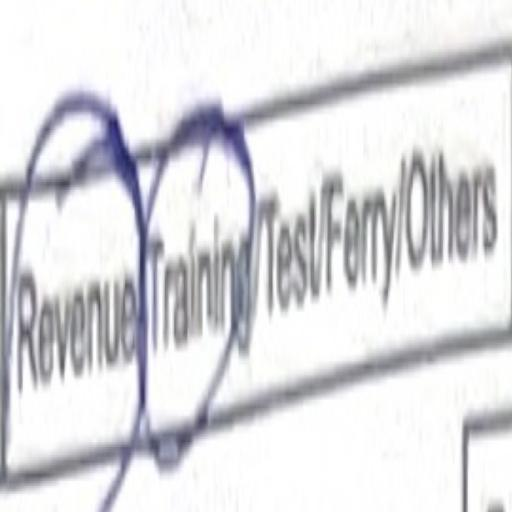check: (0, 13, 142, 512), (145, 60, 254, 512)
